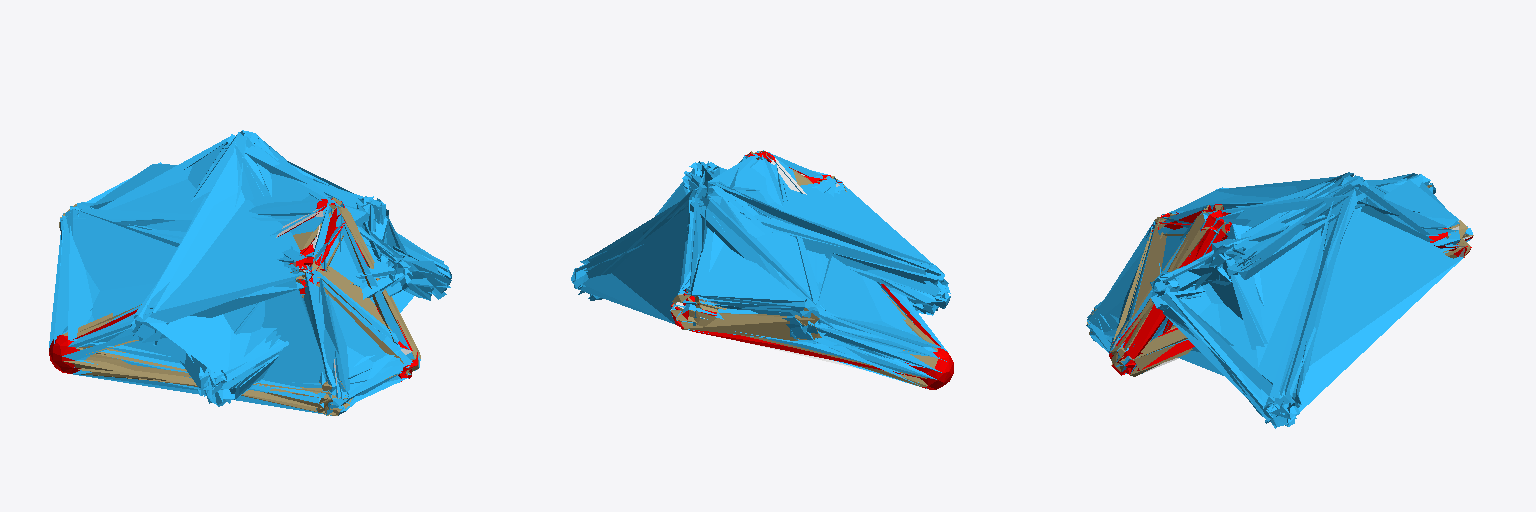
File: Milkshake.obj
3 views of the same model, side by side, from view 1: azimuth 30°, elevation 25°; view 2: azimuth 150°, elevation 25°; view 3: azimuth 270°, elevation 25° (orthographic).
Parts seen in each view (by area): view 1: Cylinder007, Cylinder006, Cylinder008, Object037; view 2: Cylinder007, Cylinder006, Cylinder008, Object037; view 3: Cylinder007, Cylinder006, Cylinder008.
Part boxes in pixels (left/top/right/bottom): Cylinder007: left=49, top=130, right=451, bottom=415; Cylinder006: left=53, top=197, right=420, bottom=415; Cylinder008: left=73, top=198, right=417, bottom=392; Object037: left=49, top=335, right=80, bottom=373; Cylinder007: left=571, top=150, right=950, bottom=388; Cylinder006: left=671, top=151, right=937, bottom=386; Cylinder008: left=671, top=151, right=940, bottom=378; Object037: left=920, top=348, right=953, bottom=389; Cylinder007: left=1086, top=172, right=1472, bottom=428; Cylinder006: left=1087, top=185, right=1473, bottom=376; Cylinder008: left=1090, top=204, right=1472, bottom=375.
Bounding box in the file's own units: 34.68 × 15.89 × 30.04.